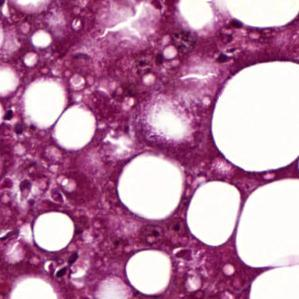steatosis: (211, 61, 299, 172), (117, 152, 184, 223), (124, 248, 171, 296), (34, 212, 76, 254)
